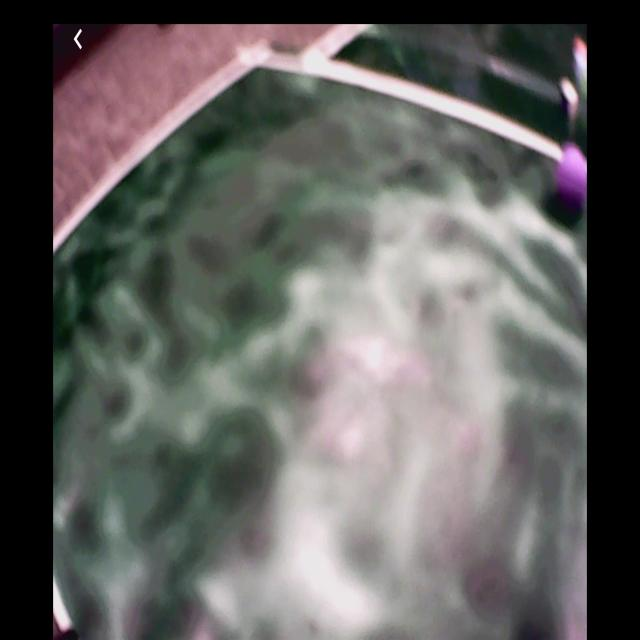ball: (559, 146, 587, 203)
